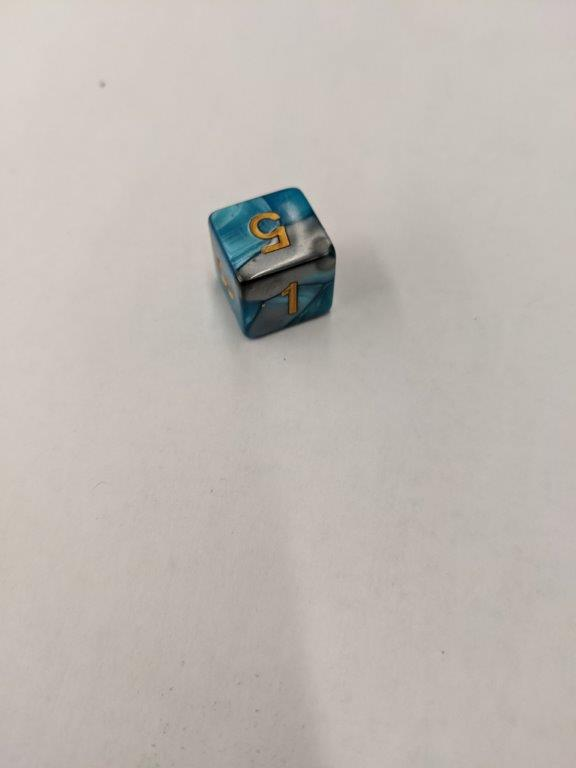d6-5: (205, 187, 336, 340)
